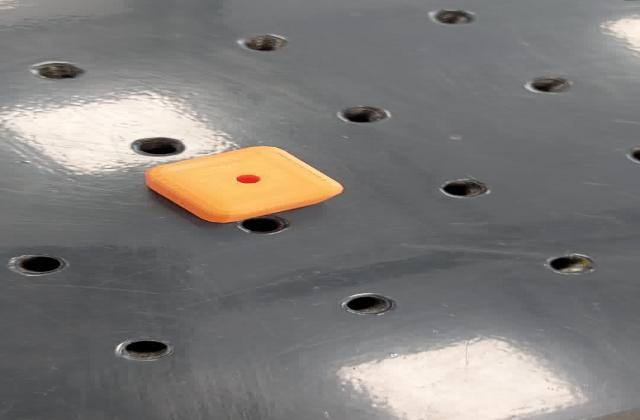cube: (134, 142, 348, 226)
